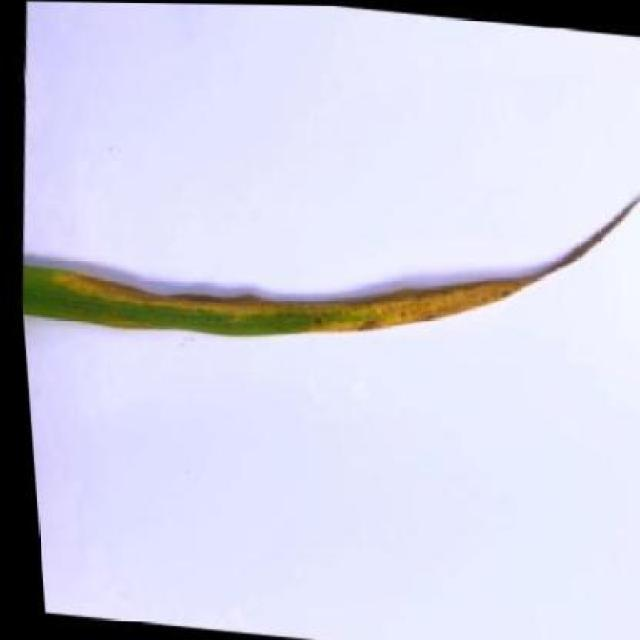Rice False Smut: (6, 111, 640, 384)
